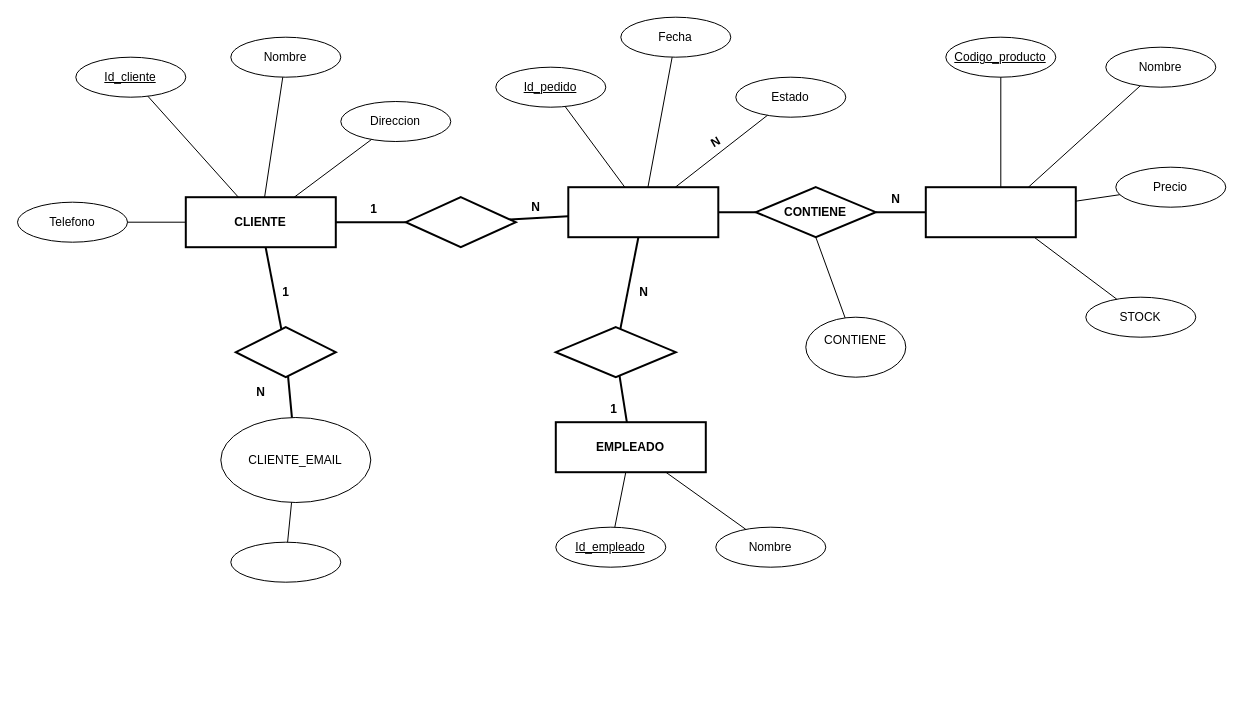
The diagram is 1244 pixels wide and 705 high, and some of its shapes have lost their labels. Each missing label, with the centre of its shape:
ATIENDE: [615,352]
Email: [285,561]
PEDIDO: [643,212]
PRODUCTO: [1000,212]
REALIZA: [460,222]
TIENE: [285,352]
